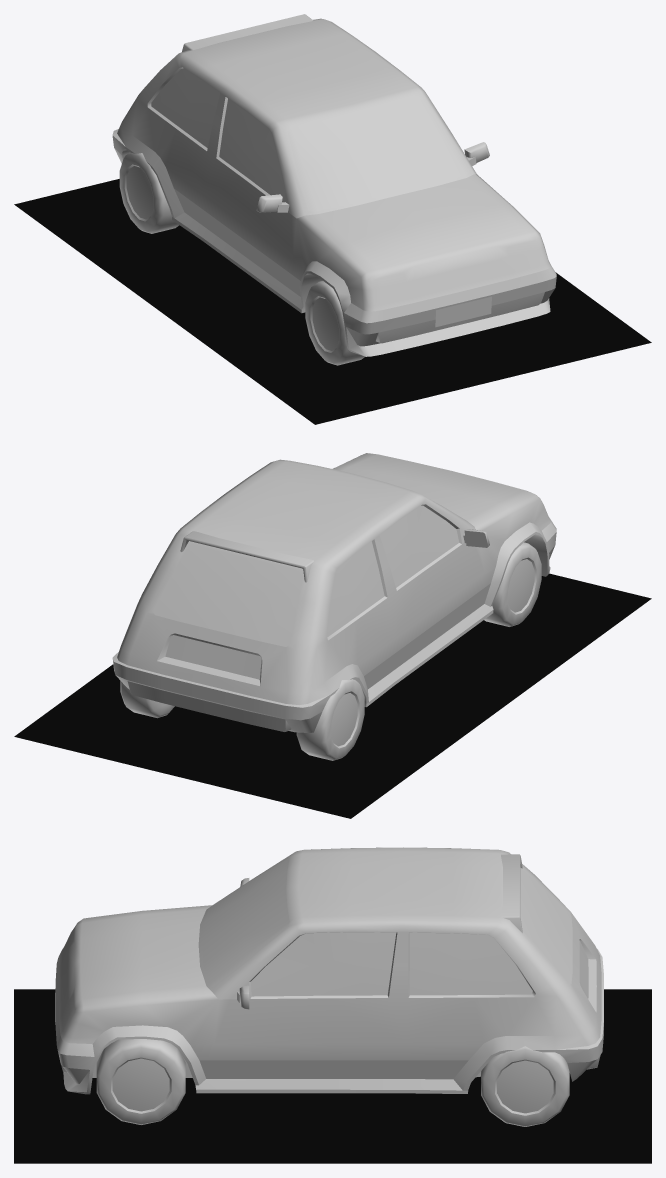
File: renault.fbx
3 views of the same model, one above another, from view 1: azimuth 30°, elevation 25°; view 2: azimuth 150°, elevation 25°; view 3: azimuth 270°, elevation 25° (orthographic). The views are drawn at different scales.
Visible parts, largest first — view 1: player_chassis, veh_shadow, veh_wheel_b, veh_wheel_fr; view 2: player_chassis, veh_shadow, veh_wheel_b, veh_wheel_fr; view 3: player_chassis, veh_shadow, veh_wheel_fl, veh_wheel_b.
Boxes of the visible parts, left/top/right/bottom form: player_chassis: left=112, top=14, right=556, bottom=356; veh_shadow: left=14, top=179, right=651, bottom=424; veh_wheel_b: left=119, top=152, right=179, bottom=233; veh_wheel_fr: left=305, top=281, right=364, bottom=365; player_chassis: left=112, top=453, right=556, bottom=732; veh_shadow: left=14, top=573, right=651, bottom=818; veh_wheel_b: left=120, top=679, right=364, bottom=760; veh_wheel_fr: left=484, top=542, right=541, bottom=626; player_chassis: left=55, top=847, right=603, bottom=1094; veh_shadow: left=14, top=989, right=651, bottom=1163; veh_wheel_fl: left=96, top=1039, right=185, bottom=1124; veh_wheel_b: left=481, top=1046, right=569, bottom=1126.
Size of the model in its own units: 264 by 137 by 408.
